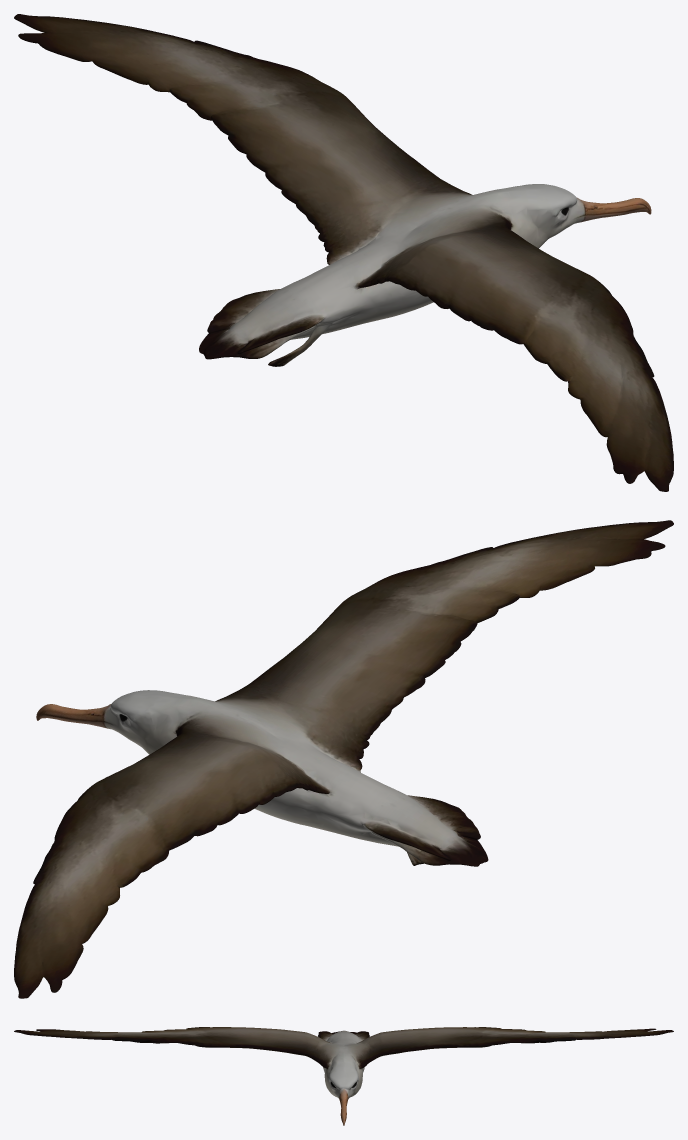
The model's file is albatross.glb.
3 renders of one model, top to bottom at view 1: azimuth 30°, elevation 25°; view 2: azimuth 150°, elevation 25°; view 3: azimuth 270°, elevation 25°, orthographic. The views are drawn at different scales.
Parts seen in each view (by area): view 1: tripo_node_a17a373c-ddfb-4eb7-ac5f-b3e9d1e0f7cb; view 2: tripo_node_a17a373c-ddfb-4eb7-ac5f-b3e9d1e0f7cb; view 3: tripo_node_a17a373c-ddfb-4eb7-ac5f-b3e9d1e0f7cb.
Part boxes in pixels (x1=…): tripo_node_a17a373c-ddfb-4eb7-ac5f-b3e9d1e0f7cb: x1=14, y1=14, x2=673, y2=491; tripo_node_a17a373c-ddfb-4eb7-ac5f-b3e9d1e0f7cb: x1=14, y1=520, x2=673, y2=998; tripo_node_a17a373c-ddfb-4eb7-ac5f-b3e9d1e0f7cb: x1=14, y1=1027, x2=673, y2=1125.
Bounding box in the file's own units: 0.8353 × 0.2366 × 2.1.
Materials: 1 (1 with a texture image).
